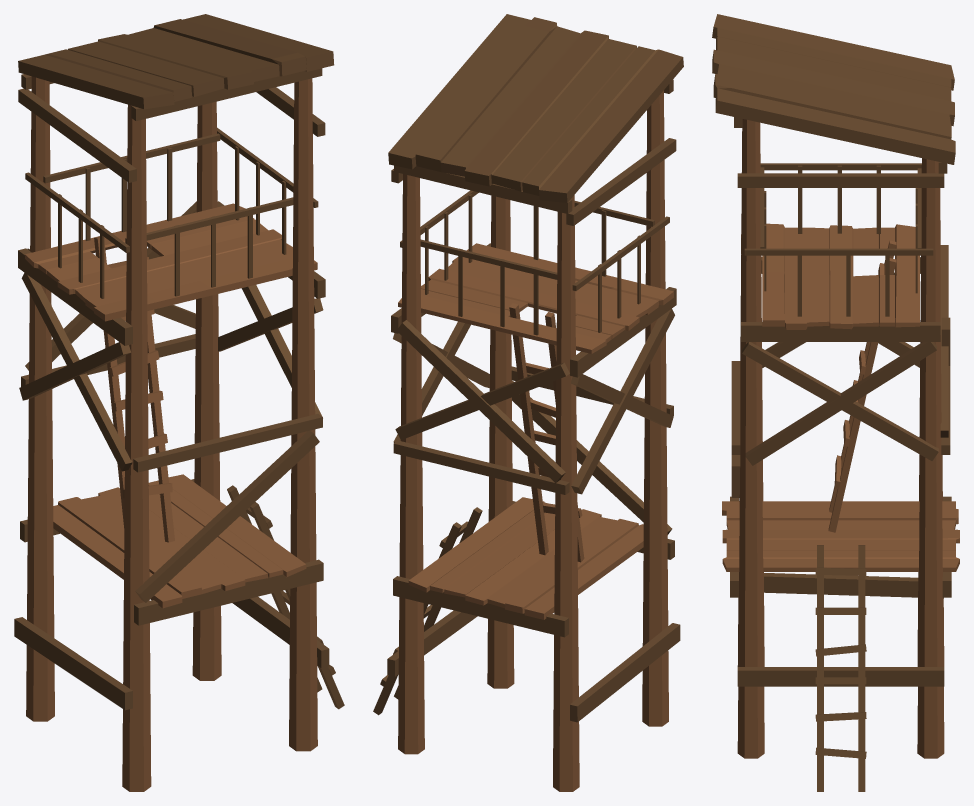
The model's file is tower-pirate-wood.fbx.
3 renders of one model, left to right at view 1: azimuth 30°, elevation 25°; view 2: azimuth 150°, elevation 25°; view 3: azimuth 270°, elevation 25°, orthographic. The views are drawn at different scales.
Parts seen in each view (by area): view 1: tower-pirate-wood; view 2: tower-pirate-wood; view 3: tower-pirate-wood.
Boxes of the visible parts, <box> form: tower-pirate-wood: <box>14,14,344,791</box>; tower-pirate-wood: <box>373,14,683,791</box>; tower-pirate-wood: <box>712,14,959,791</box>.
Size of the model in its own units: 4.19 by 10.65 by 3.59.
